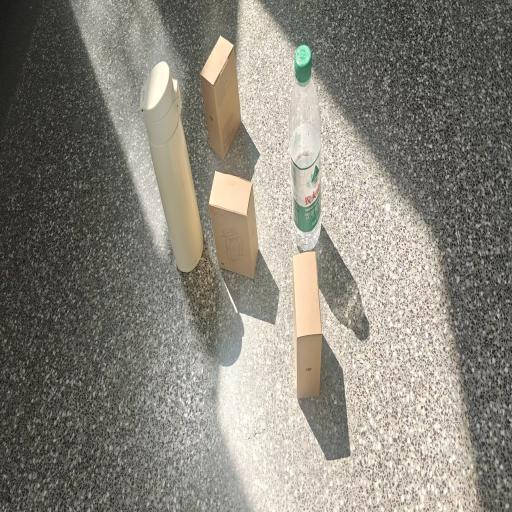bottle: (140, 61, 203, 272), (288, 43, 326, 251)
box: (209, 170, 259, 278), (200, 36, 241, 159), (292, 251, 322, 398)
